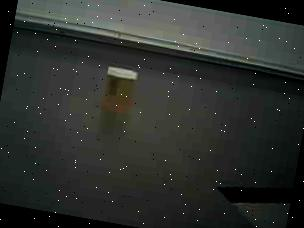Bottle B: (90, 55, 152, 122)
